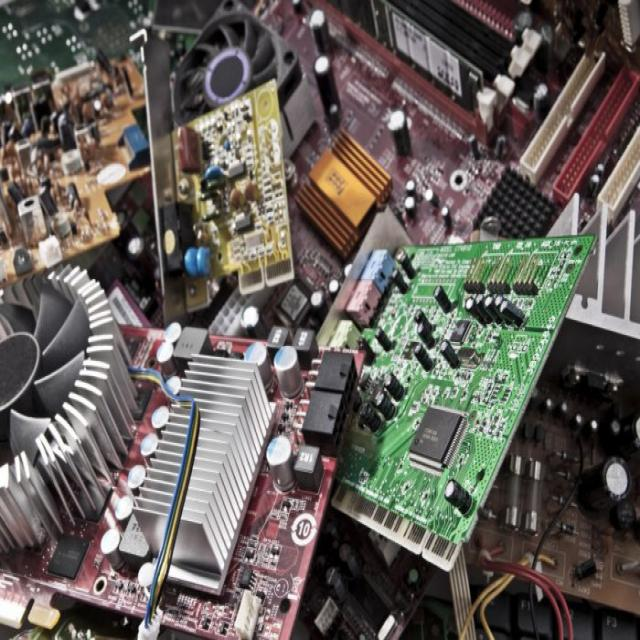hazard: (0, 6, 637, 640)
